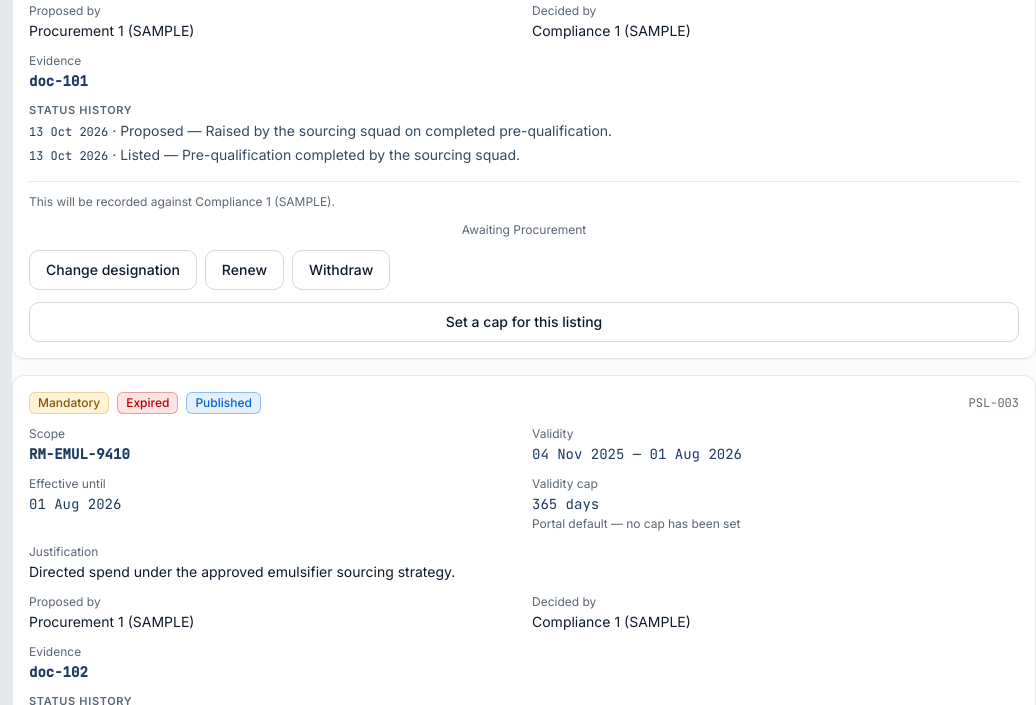
Test: ⚠️ THE VERBS DISPATCH — the STORE moves, not just a toast › ⚠️ AN OVER-CEILING OVERRIDE IS REFUSED, AND THE REFUSAL STATES THE CEILING
This screenshot has width=1036, height=705.
(page scrolled)
Click the button with test id "psl-open-cap-psl-002" at (524, 322), box 29,302 -> 1019,342
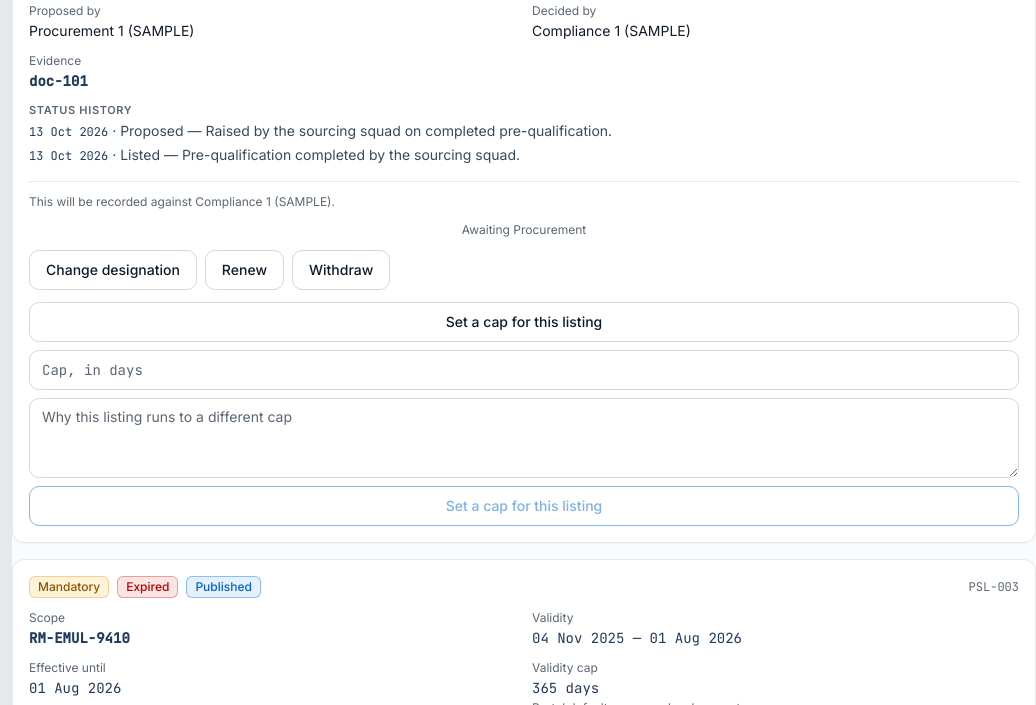
Type "731" into the number field with test id "psl-cap-days-psl-002" at (524, 370), box 29,350 -> 1019,390
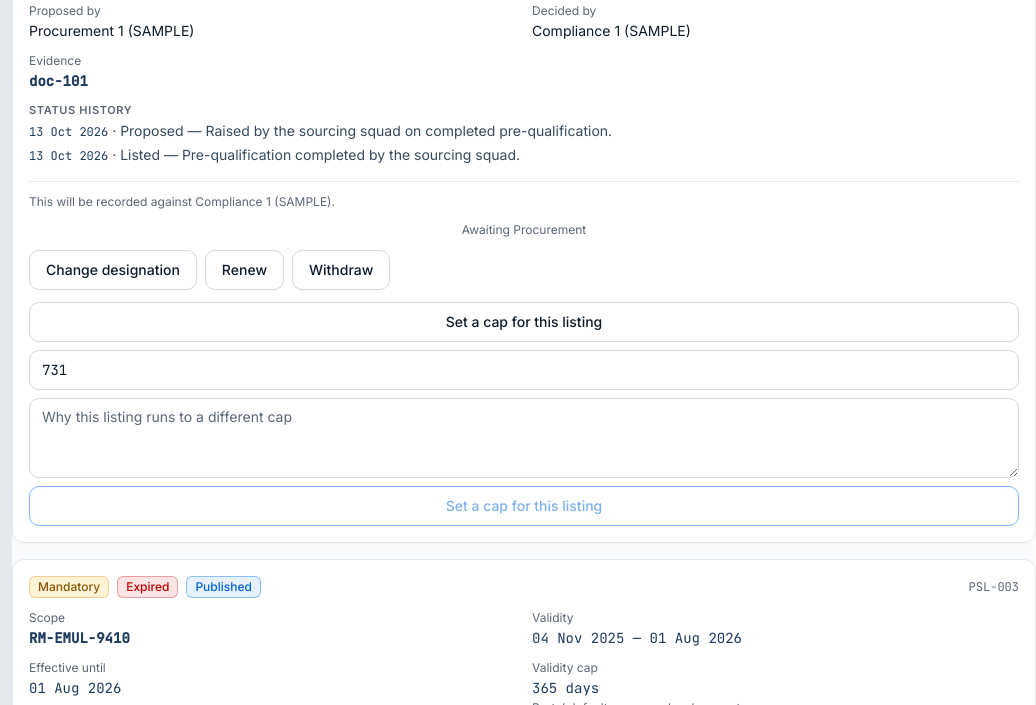
Type "one day too long" into the text box with test id "psl-cap-why-psl-002" at (524, 438), box 29,398 -> 1019,478
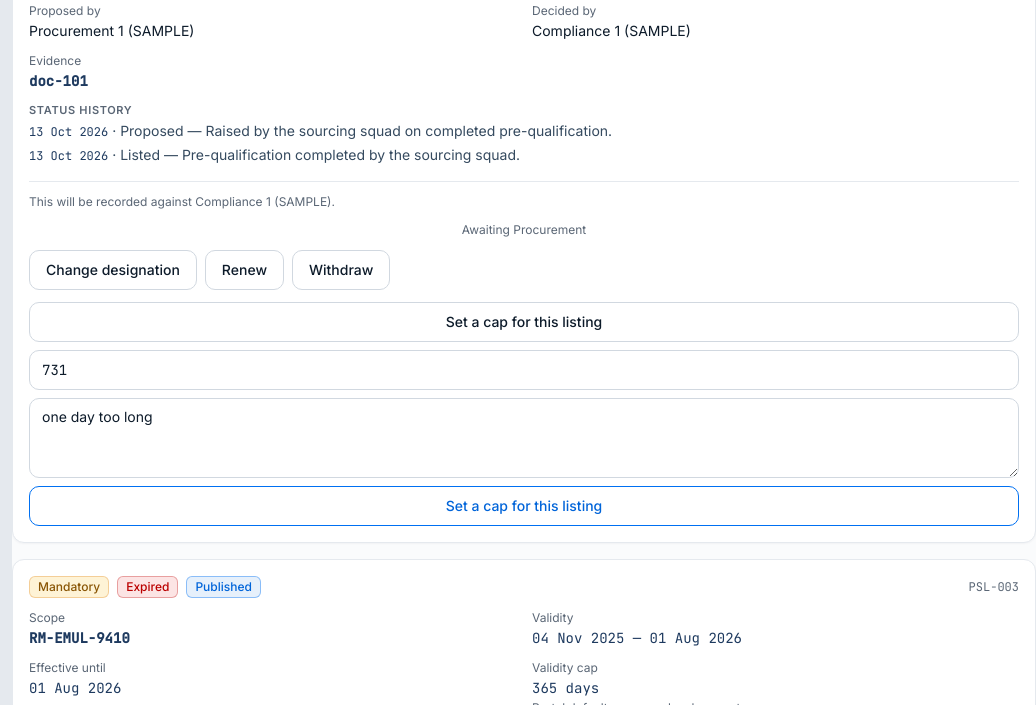
Click the button with test id "psl-commit-cap-psl-002" at (524, 506), box 29,486 -> 1019,526
(page scrolled)
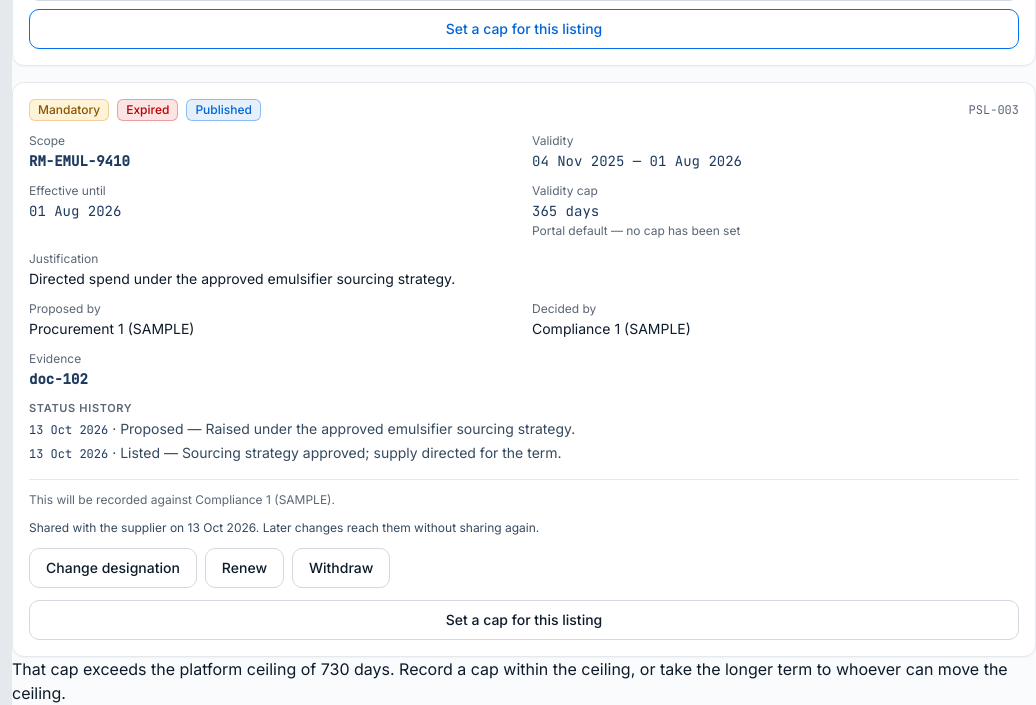
Check: the list with test id "toast-spy" shows "730", box 12,659 -> 1008,703
Check: the list with test id "toast-spy" shows "exceeds the platform ceiling", box 12,659 -> 1008,703
